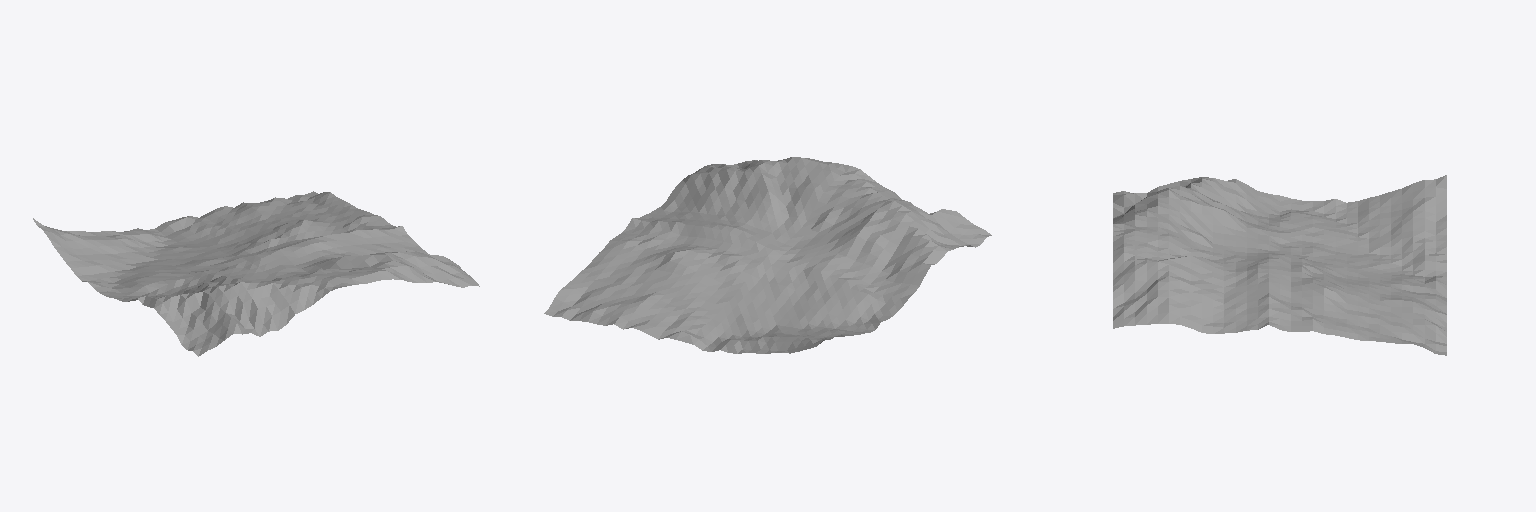
The model's file is SALDES_esllavissada_09.obj.
3 renders of one model, left to right at view 1: azimuth 30°, elevation 25°; view 2: azimuth 150°, elevation 25°; view 3: azimuth 270°, elevation 25°, orthographic.
Visible parts, largest first — view 1: inter_MetElipResi_2_inter_MetElipResi_2.001; view 2: inter_MetElipResi_2_inter_MetElipResi_2.001; view 3: inter_MetElipResi_2_inter_MetElipResi_2.001.
Boxes of the visible parts, x1,y1,x2,y2 form: inter_MetElipResi_2_inter_MetElipResi_2.001: [33, 191, 479, 356]; inter_MetElipResi_2_inter_MetElipResi_2.001: [544, 157, 991, 353]; inter_MetElipResi_2_inter_MetElipResi_2.001: [1113, 175, 1446, 355].
Bounding box in the file's own units: 19.61 × 4.24 × 20.08.